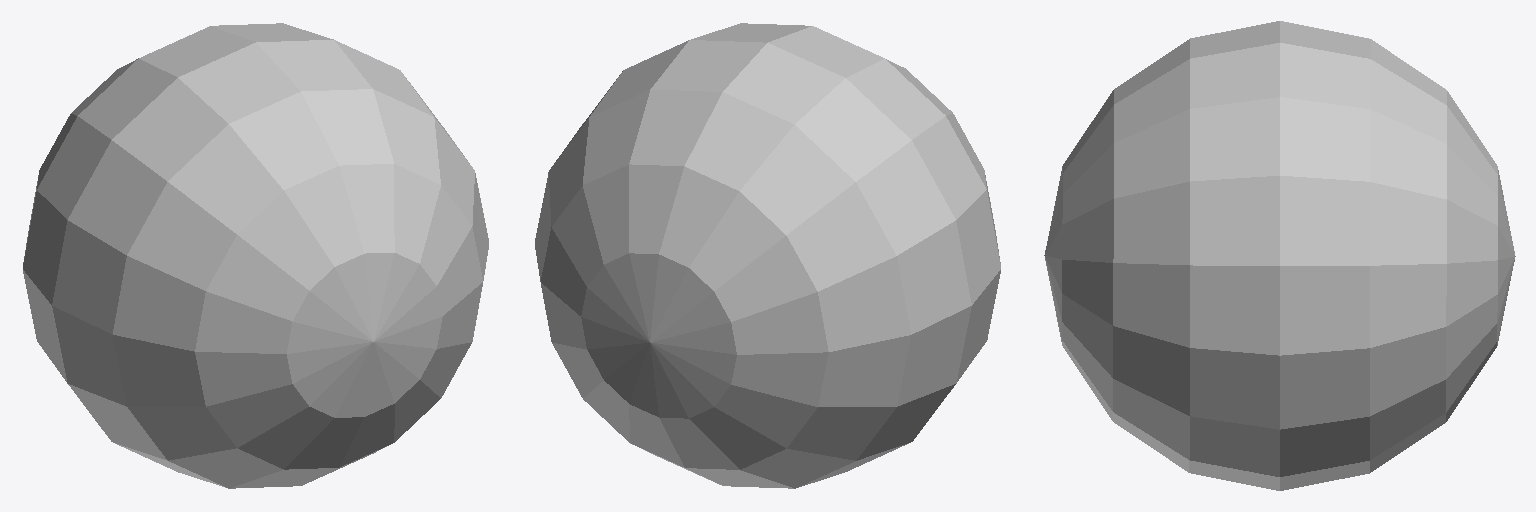
The model's file is MysticOrb.obj.
3 renders of one model, left to right at view 1: azimuth 30°, elevation 25°; view 2: azimuth 150°, elevation 25°; view 3: azimuth 270°, elevation 25°, orthographic.
Parts seen in each view (by area): view 1: OuterLayer; view 2: OuterLayer; view 3: OuterLayer.
Part boxes in pixels (left/top/right/bottom): OuterLayer: left=23, top=23, right=488, bottom=488; OuterLayer: left=535, top=23, right=1000, bottom=488; OuterLayer: left=1044, top=21, right=1515, bottom=490.
Bounding box in the file's own units: 54.73 × 54.73 × 54.73.